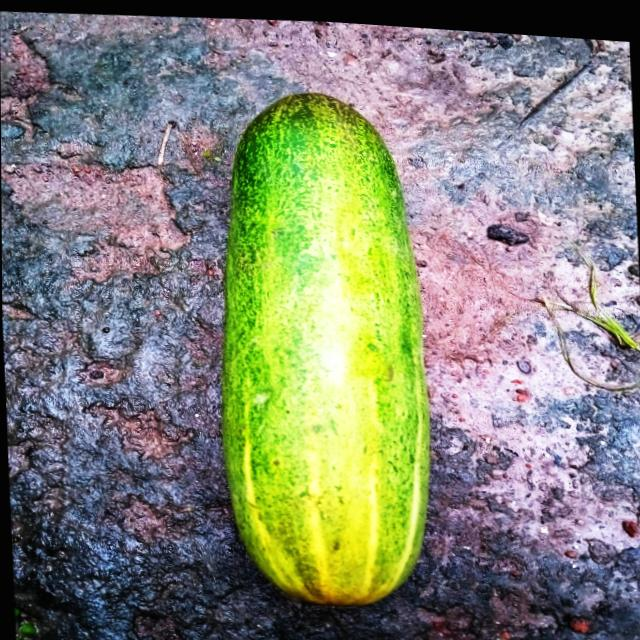Fresh-Cucumber: (204, 77, 440, 617)
